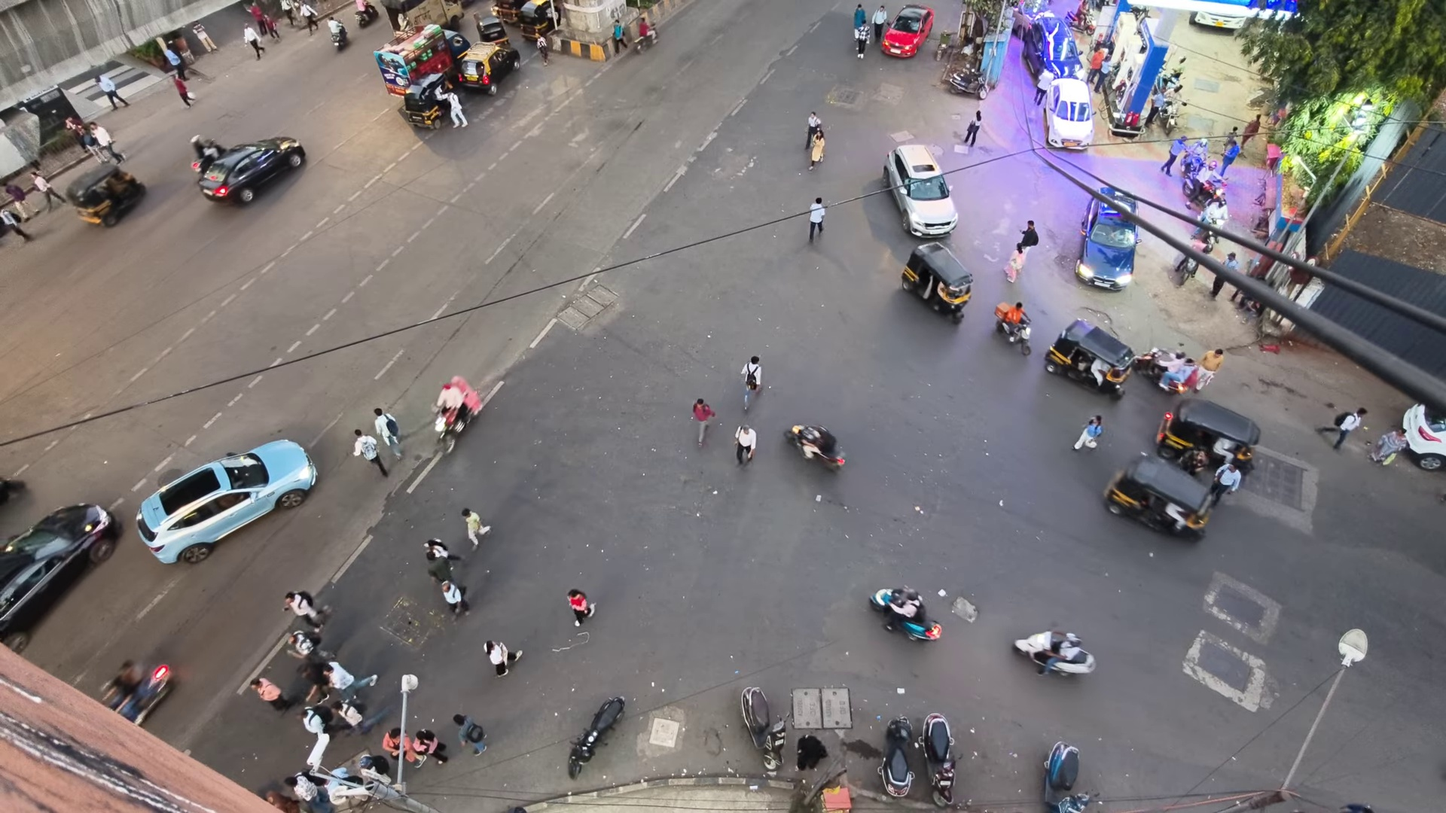driving: (136, 440, 316, 563), (0, 504, 119, 652), (198, 136, 304, 203), (883, 145, 958, 236), (1075, 187, 1140, 291), (880, 4, 933, 57)
walking: (1317, 407, 1367, 449), (322, 661, 377, 699), (331, 698, 389, 734), (284, 772, 334, 812), (383, 727, 424, 766), (354, 429, 387, 477), (285, 591, 323, 632), (251, 677, 294, 711), (287, 630, 334, 661), (1368, 428, 1408, 464), (31, 170, 65, 212), (90, 122, 124, 163), (374, 407, 401, 458), (1193, 349, 1225, 391), (484, 641, 522, 676), (1210, 461, 1240, 505), (453, 714, 486, 754), (740, 355, 761, 412), (412, 729, 447, 763), (426, 547, 459, 583), (4, 182, 34, 220), (96, 74, 128, 109), (299, 706, 336, 736), (692, 398, 715, 446), (462, 508, 490, 547), (0, 208, 31, 242), (1161, 136, 1187, 176), (797, 735, 827, 769), (1073, 415, 1103, 449), (441, 580, 469, 616), (440, 92, 468, 128), (567, 589, 594, 626), (358, 754, 389, 784), (1143, 90, 1167, 128), (264, 790, 304, 812), (1085, 43, 1106, 84), (424, 537, 460, 560), (163, 43, 186, 79), (735, 425, 756, 464), (192, 23, 218, 53), (1219, 141, 1241, 176), (1034, 68, 1055, 104), (243, 25, 265, 59), (1016, 220, 1039, 252), (809, 197, 825, 241), (809, 126, 825, 170), (1240, 114, 1260, 148), (298, 0, 317, 35), (963, 110, 981, 145), (1005, 249, 1024, 282), (806, 111, 821, 149), (173, 77, 191, 107), (612, 20, 627, 54), (854, 23, 868, 59), (872, 5, 886, 41), (262, 15, 280, 40), (535, 35, 549, 65), (247, 2, 264, 26), (280, 0, 294, 26), (853, 4, 867, 28), (1210, 275, 1225, 297)
